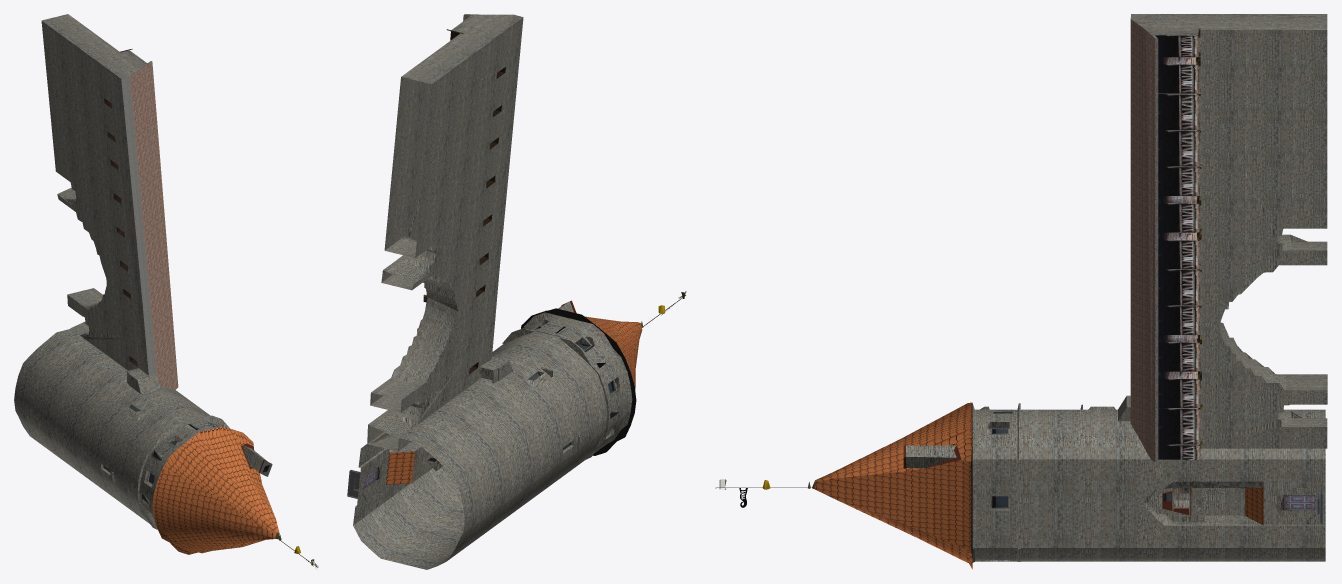
The model's file is Vaike-Kloostri_1-origo.obj.
3 renders of one model, left to right at view 1: azimuth 30°, elevation 25°; view 2: azimuth 150°, elevation 25°; view 3: azimuth 270°, elevation 25°, orthographic. The views are drawn at different scales.
Parts seen in each view (by area): view 1: Vaike_Kloostri_1; view 2: Vaike_Kloostri_1; view 3: Vaike_Kloostri_1.
Part boxes in pixels (x1=…): Vaike_Kloostri_1: x1=14, y1=14, x2=318, y2=567; Vaike_Kloostri_1: x1=347, y1=14, x2=686, y2=569; Vaike_Kloostri_1: x1=715, y1=14, x2=1327, y2=569.
Bounding box in the file's own units: 9.94 × 37.5 × 39.45.
